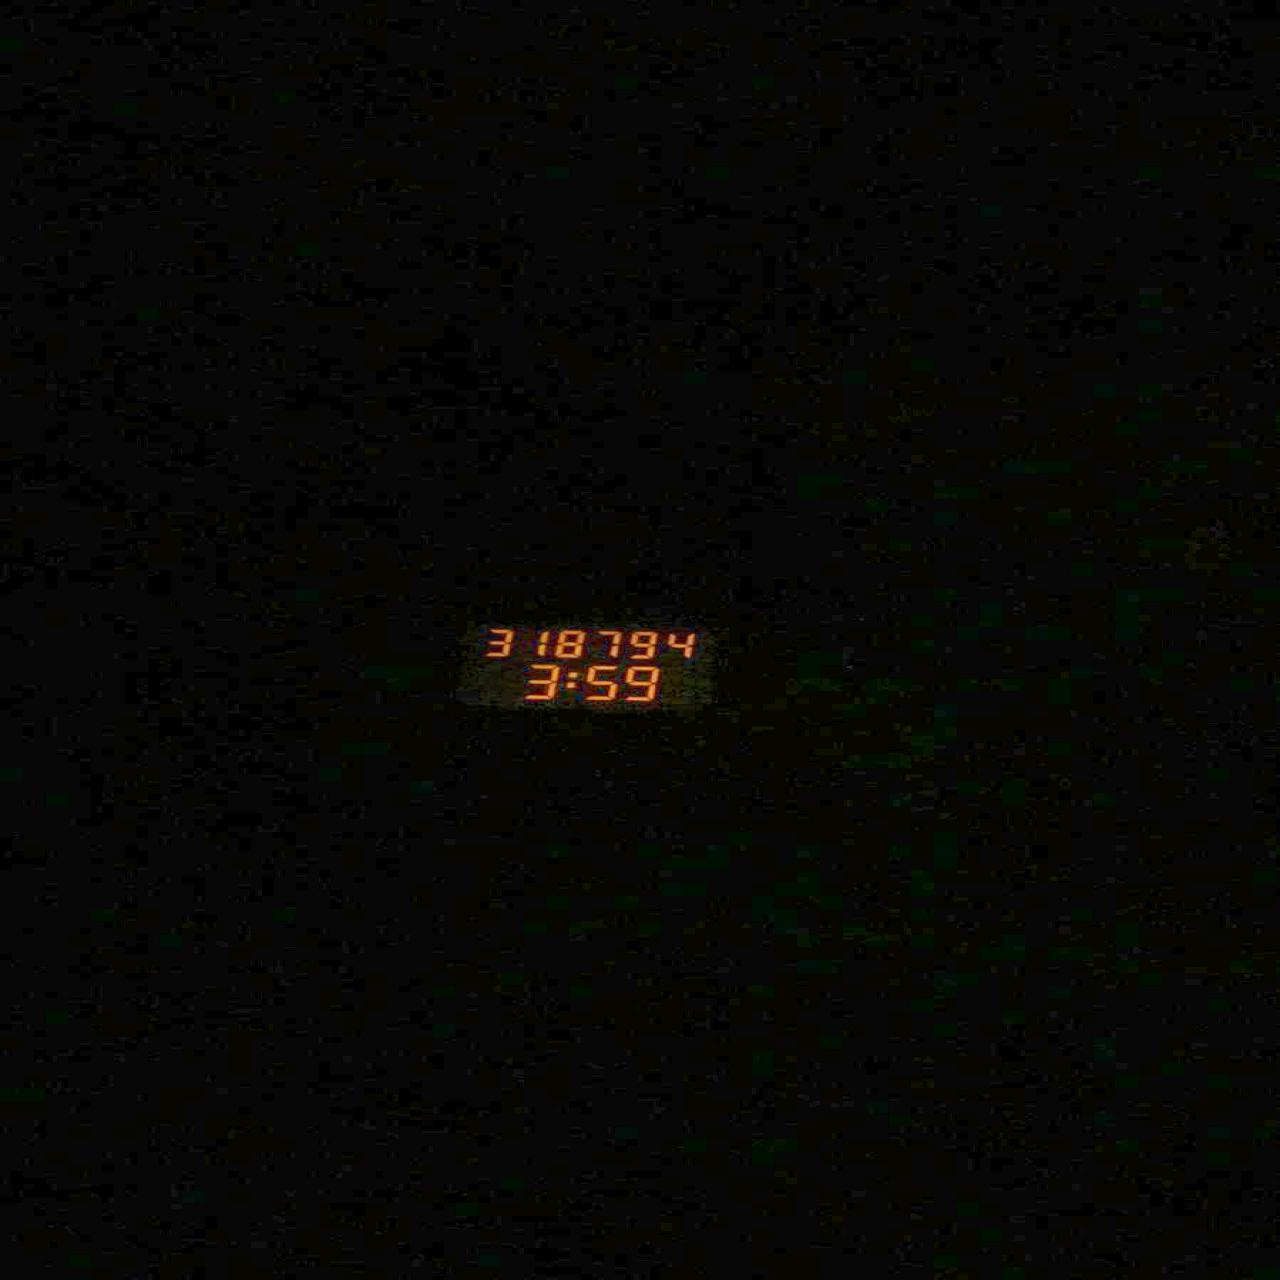1: (536, 629, 550, 656)
3: (519, 663, 561, 700), (483, 627, 515, 656)
4: (665, 632, 695, 659)
5: (584, 665, 618, 701)
7: (595, 629, 621, 658)
8: (553, 628, 585, 659)
9: (622, 665, 659, 701), (626, 631, 658, 660)
X: (563, 670, 578, 689)
odometer: (470, 621, 723, 714)
